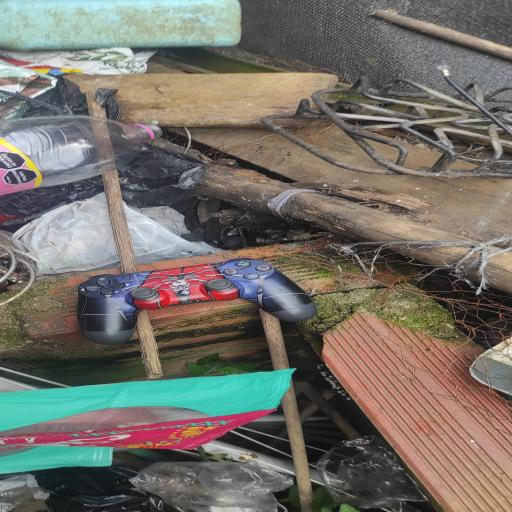ControlPlay4: (77, 258, 316, 344)
